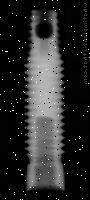Zimmer: (26, 7, 66, 192)
